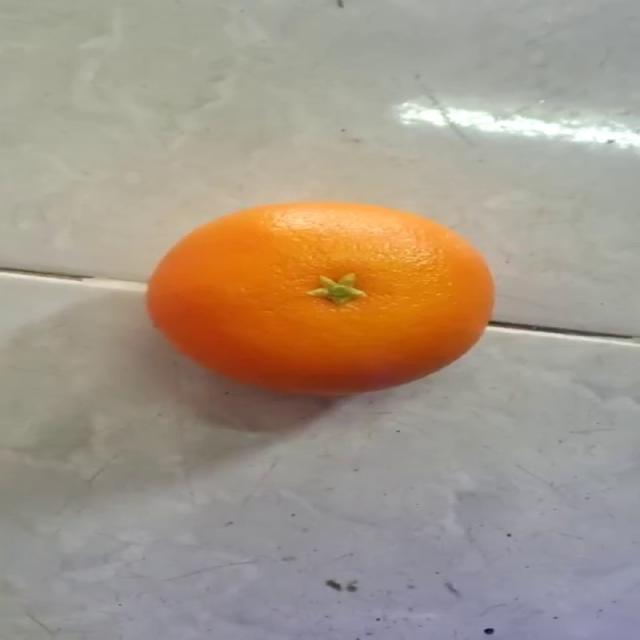Orange: (144, 199, 495, 397)
